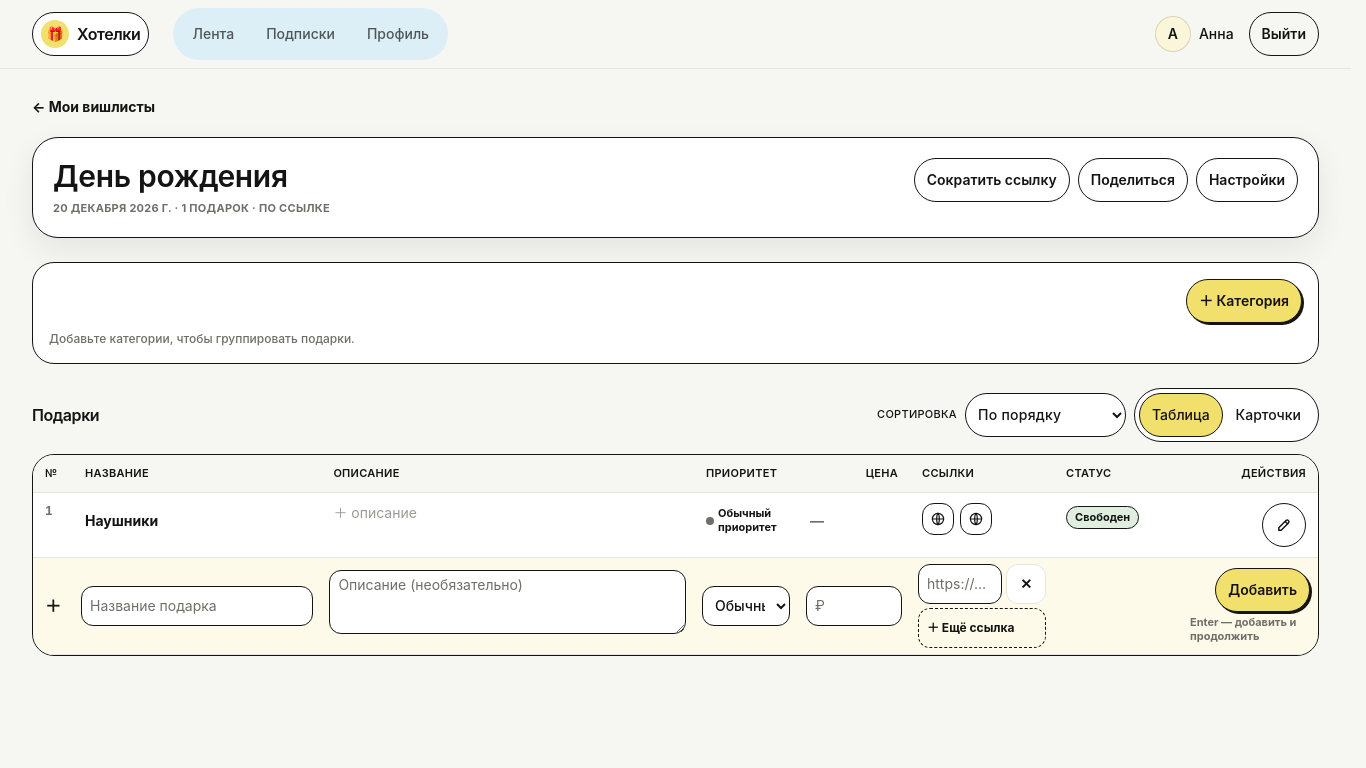
Scenario: несколько ссылок в модалке подарка › удаляет ссылку и сохраняет остаток
Expected: the text "Наушники" is shown, [85,511,158,531]
Click the button named "Редактировать подарок" at (1284, 525), box [1262,503,1306,547]
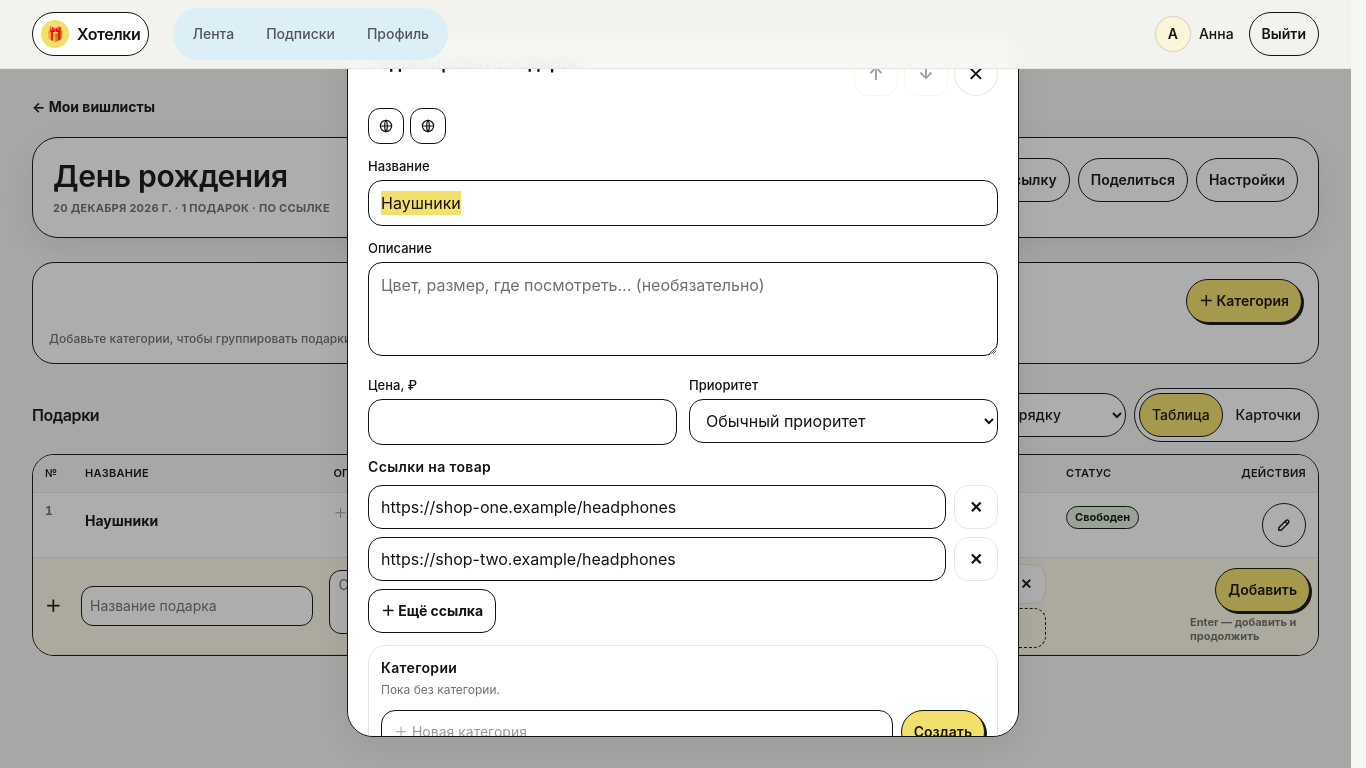
Click the button named "Подарка «Наушники»: Убрать ссылку 1" at (976, 507), box [954,485,998,529]
(page scrolled)
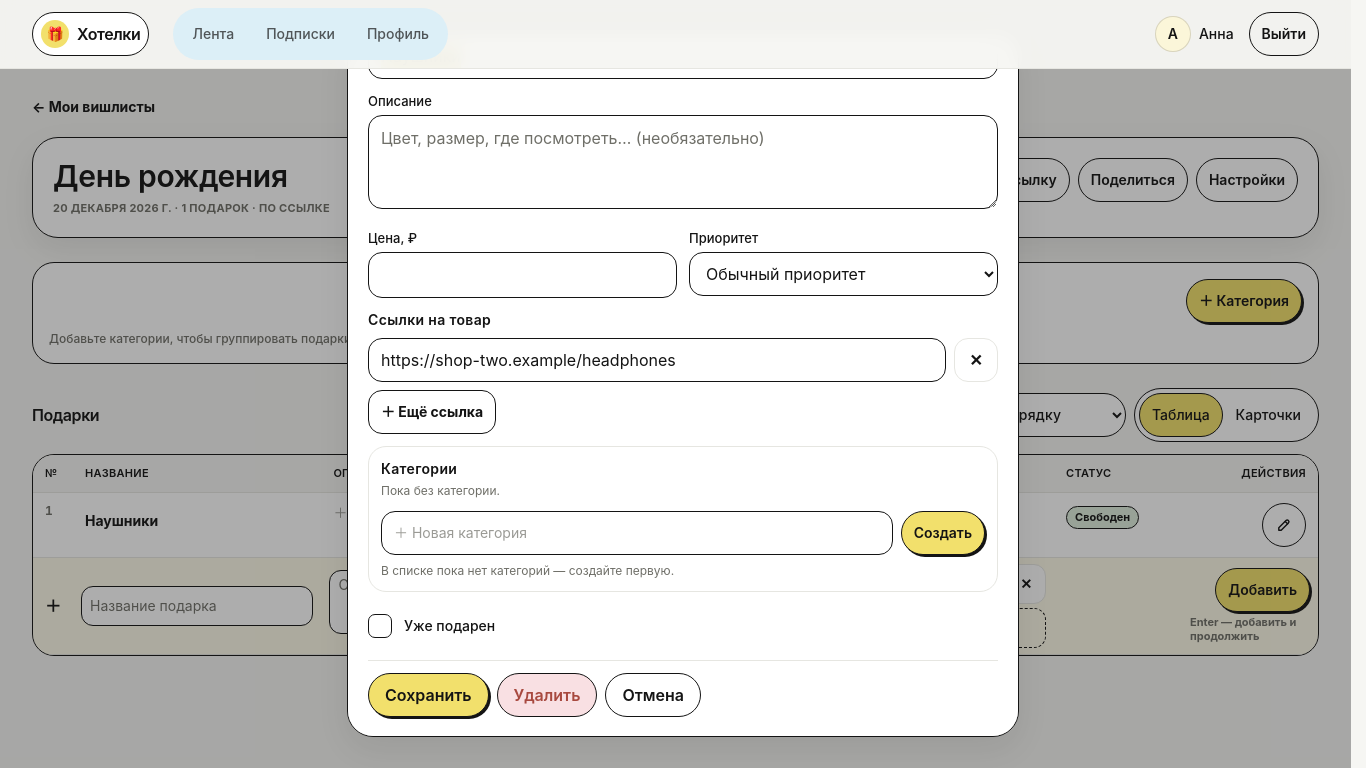
Click the button "Сохранить" at (428, 695), box [368,673,488,717]
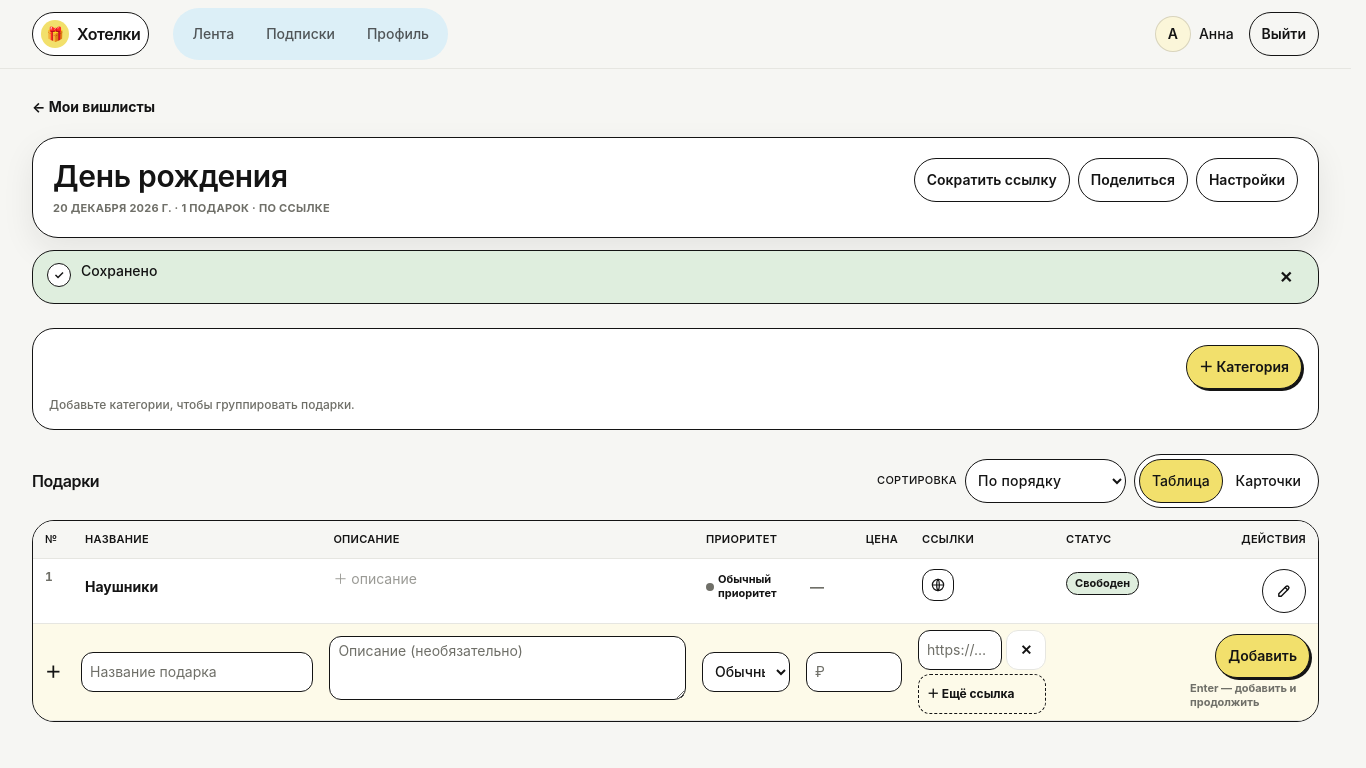
Expected: the text "Сохранено" is shown, [81,262,157,278]
